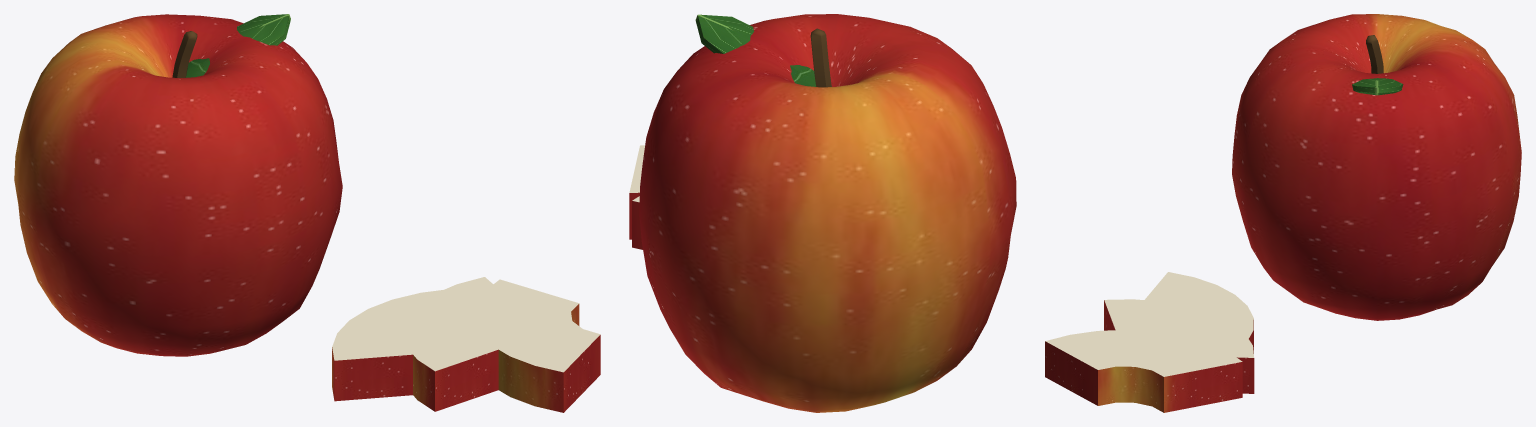
File: fruit_apple_red_and_slice.glb
3 views of the same model, side by side, from view 1: azimuth 30°, elevation 25°; view 2: azimuth 150°, elevation 25°; view 3: azimuth 270°, elevation 25° (orthographic). The views are drawn at different scales.
Visible parts, largest first — view 1: fruit_apple_red_and_slice; view 2: fruit_apple_red_and_slice; view 3: fruit_apple_red_and_slice.
Boxes of the visible parts, x1=… form: fruit_apple_red_and_slice: x1=14, y1=14, x2=600, y2=412; fruit_apple_red_and_slice: x1=629, y1=14, x2=1016, y2=412; fruit_apple_red_and_slice: x1=1045, y1=14, x2=1521, y2=412.
Bounding box in the file's own units: 0.1204 × 0.08 × 0.1321.
Materials: 4 (2 with a texture image).
